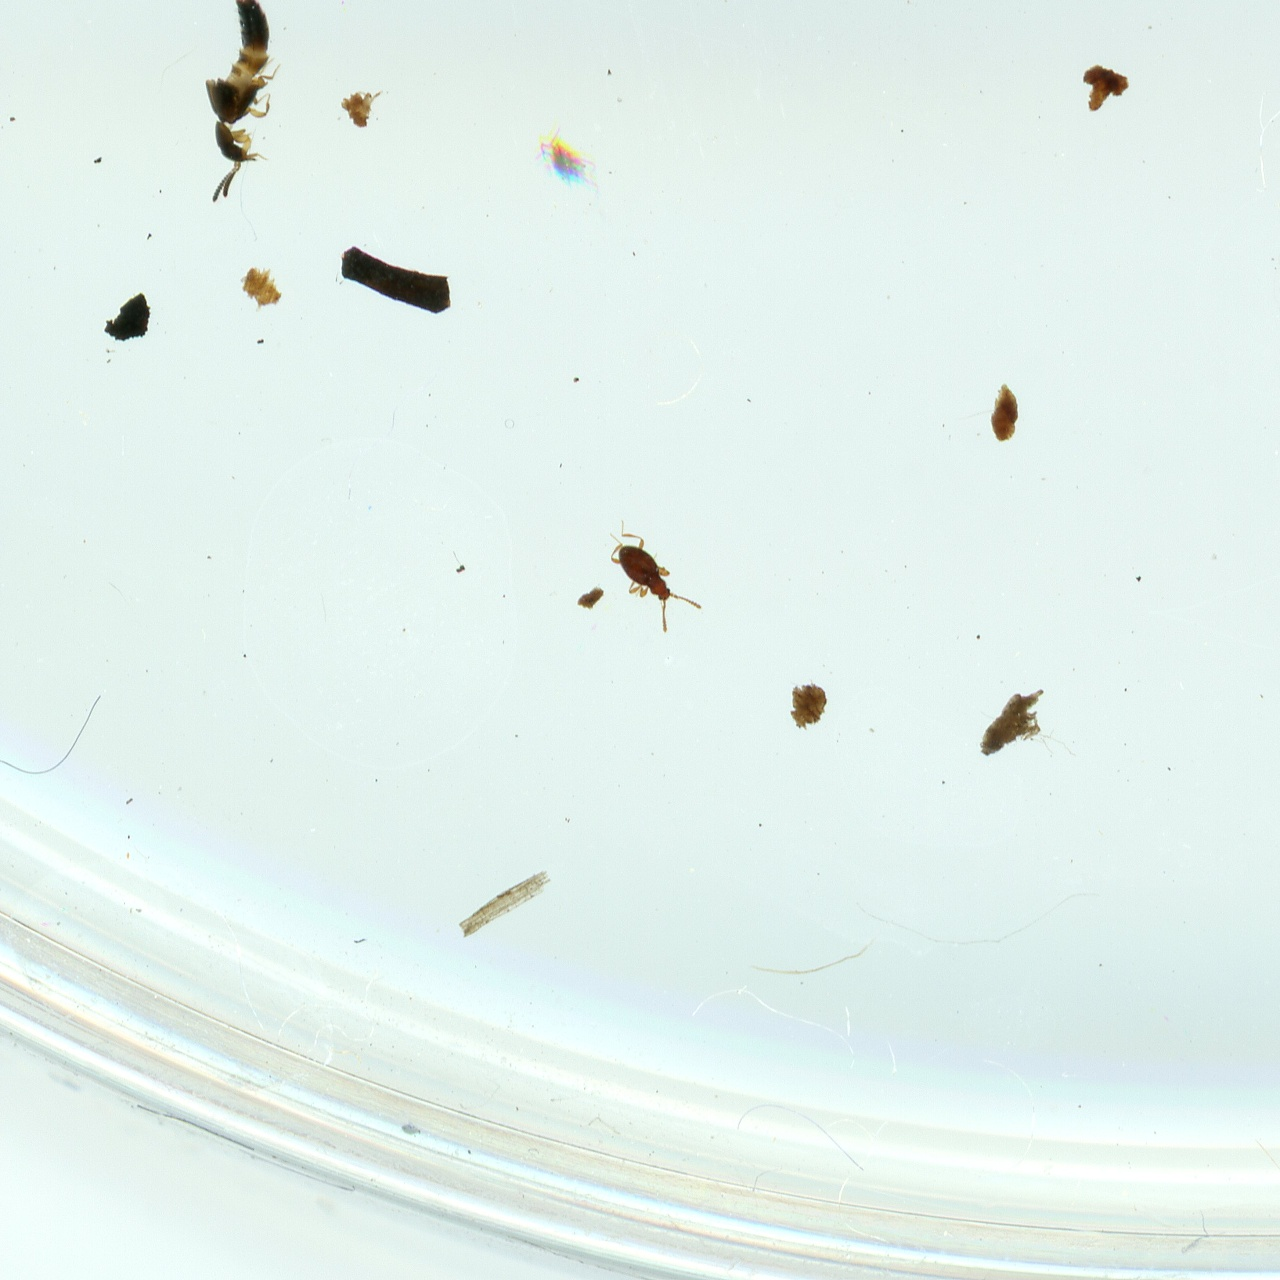arthropod: (202, 0, 284, 207), (588, 505, 710, 642)
